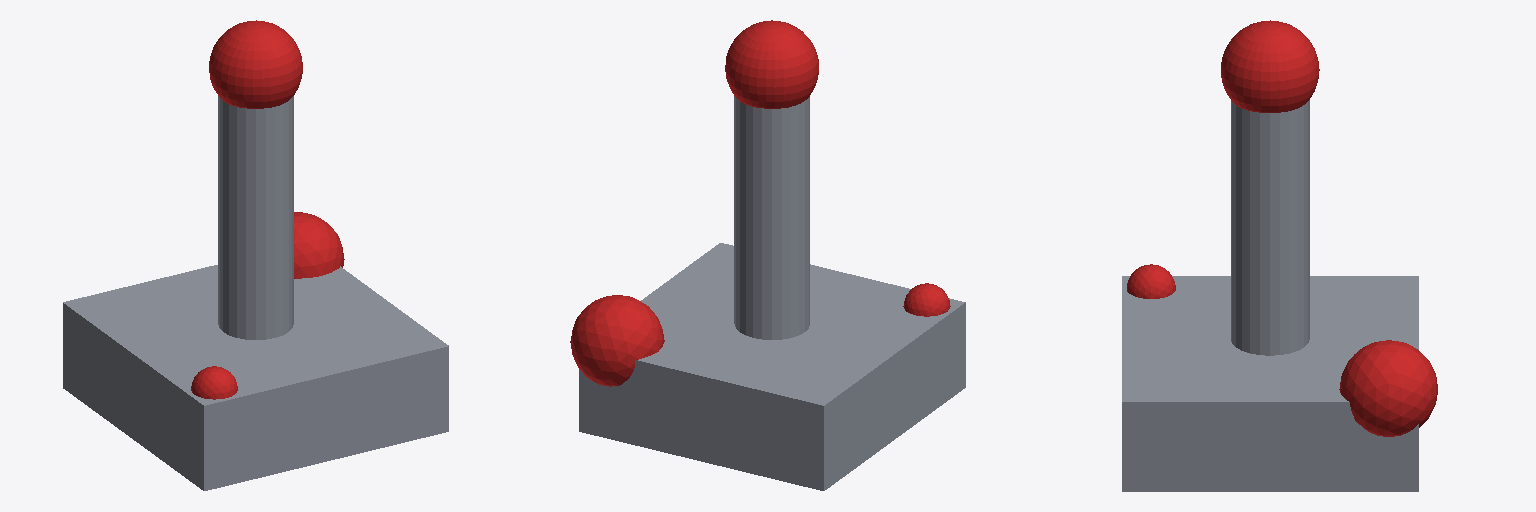
URDF robot description (mesh_robot):
<?xml version="1.0"?>
<!-- Robot with multiple visual meshes per link. Mixes package://, relative and primitive geometry. -->
<robot name="mesh_robot">
  <material name="steel"><color rgba="0.6 0.62 0.66 1"/></material>
  <material name="red"><color rgba="0.8 0.2 0.2 1"/></material>

  <link name="base_link">
    <inertial><origin xyz="0 0 0.05"/><mass value="3.0"/>
      <inertia ixx="0.025" ixy="0" ixz="0" iyy="0.025" iyz="0" izz="0.045"/></inertial>
    <visual name="base_body">
      <origin xyz="0 0 0.05"/>
      <geometry><mesh filename="package://mesh_robot_description/meshes/base.stl"/></geometry>
      <material name="steel"/>
    </visual>
    <visual name="knob_front">
      <origin xyz="0.12 0.12 0.1"/>
      <geometry><mesh filename="../meshes/knob.stl"/></geometry>
      <material name="red"/>
    </visual>
    <visual name="knob_back">
      <origin xyz="-0.12 -0.12 0.1"/>
      <geometry><mesh filename="../meshes/knob.stl" scale="0.5 0.5 0.5"/></geometry>
      <material name="red"/>
    </visual>
    <collision>
      <origin xyz="0 0 0.05"/>
      <geometry><mesh filename="package://mesh_robot_description/meshes/base.stl"/></geometry>
    </collision>
  </link>

  <link name="arm_link">
    <inertial><origin xyz="0 0 0.15"/><mass value="0.5"/>
      <inertia ixx="0.004" ixy="0" ixz="0" iyy="0.004" iyz="0" izz="0.0004"/></inertial>
    <visual>
      <geometry><mesh filename="package://mesh_robot_description/meshes/arm.obj"/></geometry>
      <material name="steel"/>
    </visual>
    <visual>
      <origin xyz="0 0 0.3"/>
      <geometry><sphere radius="0.05"/></geometry>
      <material name="red"/>
    </visual>
    <collision>
      <geometry><mesh filename="package://mesh_robot_description/meshes/arm.obj"/></geometry>
    </collision>
  </link>
  <joint name="arm_joint" type="revolute">
    <parent link="base_link"/><child link="arm_link"/>
    <origin xyz="0 0 0.1"/><axis xyz="1 0 0"/>
    <limit lower="-1.5" upper="1.5" effort="20" velocity="2.0"/>
  </joint>
</robot>

--- Render facts (derived) ---
3 views of the same robot in one strip: view 1: azimuth 30°, elevation 25°; view 2: azimuth 150°, elevation 25°; view 3: azimuth 270°, elevation 25° (orthographic).
Robot: mesh_robot — 2 links, 1 joints (1 revolute); root link base_link; default pose: every joint at zero.
Links seen in each view (by area): view 1: base_link, arm_link; view 2: base_link, arm_link; view 3: base_link, arm_link.
Boxes of the visible links, x1,y1,x2,y2 form: base_link: [63, 212, 448, 490]; arm_link: [209, 20, 302, 339]; base_link: [570, 243, 965, 490]; arm_link: [725, 20, 818, 339]; base_link: [1122, 264, 1437, 491]; arm_link: [1221, 20, 1319, 355].
Bounding box of the posed robot: 0.32 × 0.32 × 0.45 m (x, y, z).
Meshes: 3 distinct files referenced, 4 mesh visuals loaded (2 binary STL, 1 OBJ).
